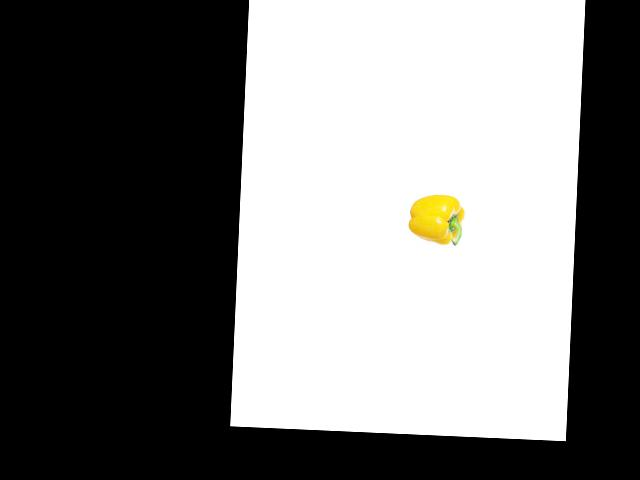bell_pepper: (405, 188, 470, 251)
